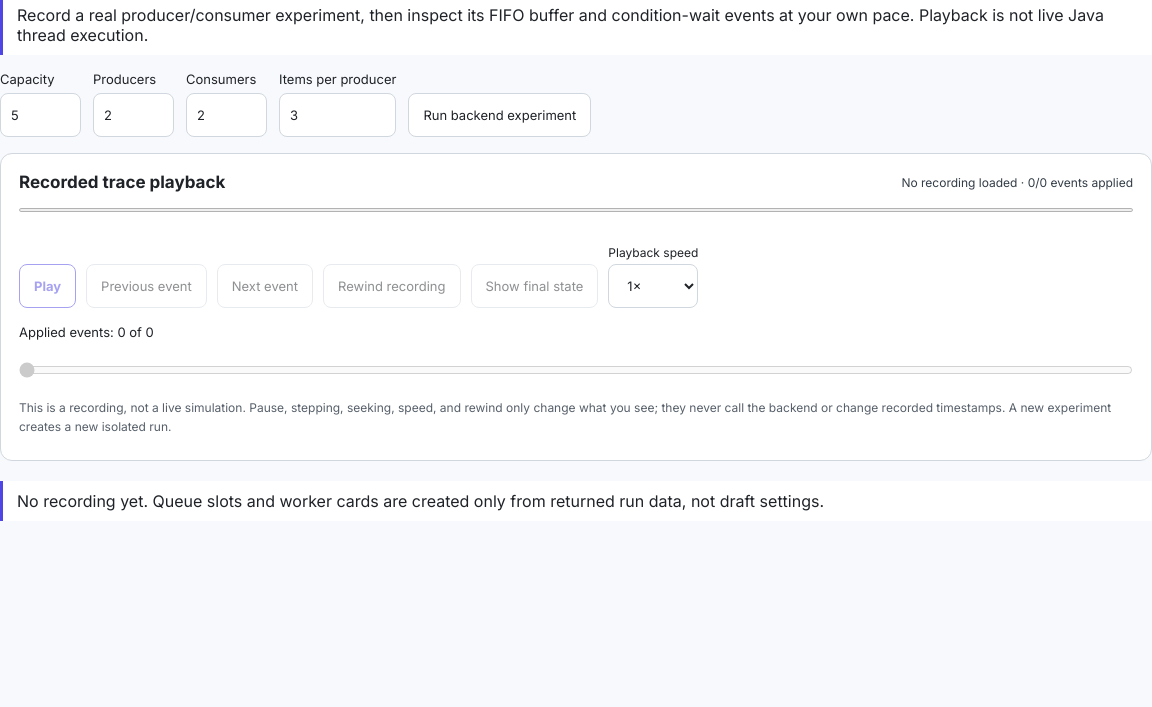
Scenario: Blocking queue recorded views › preserves the previous queue recording after a failed experiment
Submit the form "Run backend experiment", box [0, 71, 591, 137]
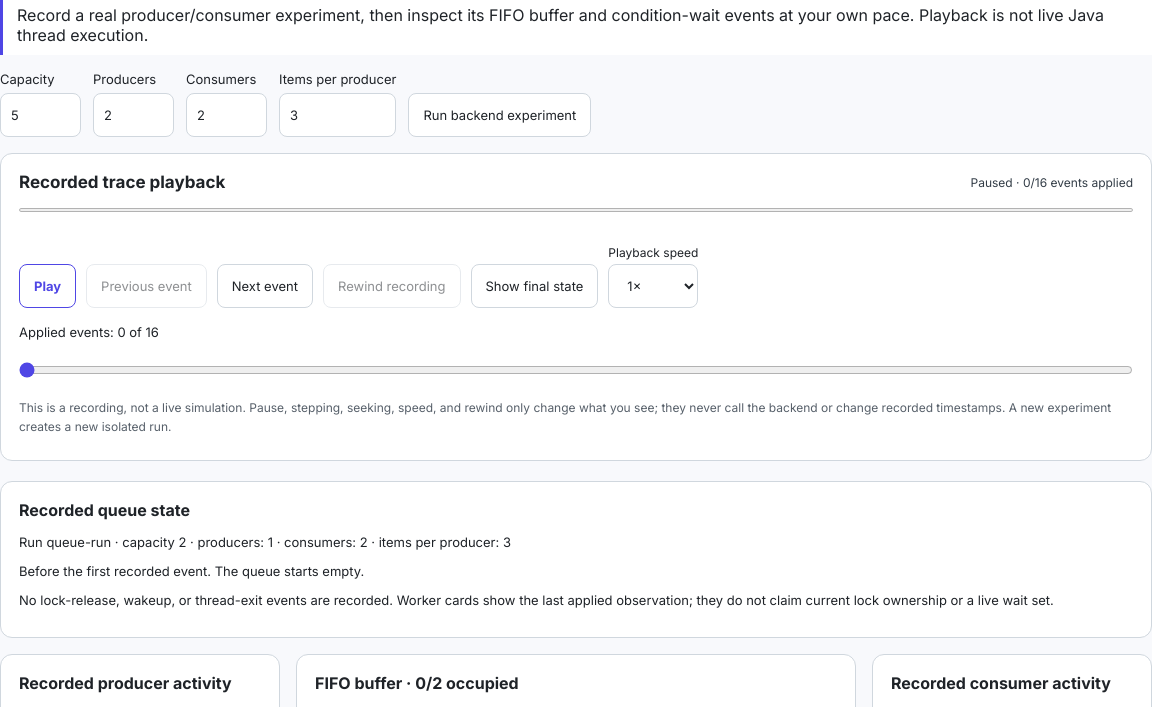
Result: the text "Paused · 0/16 events applied" is shown at [970, 174, 1133, 190]
Set the slider labelled "Applied events: 0 of 16" to "7" at (507, 370), box [19, 348, 1133, 392]
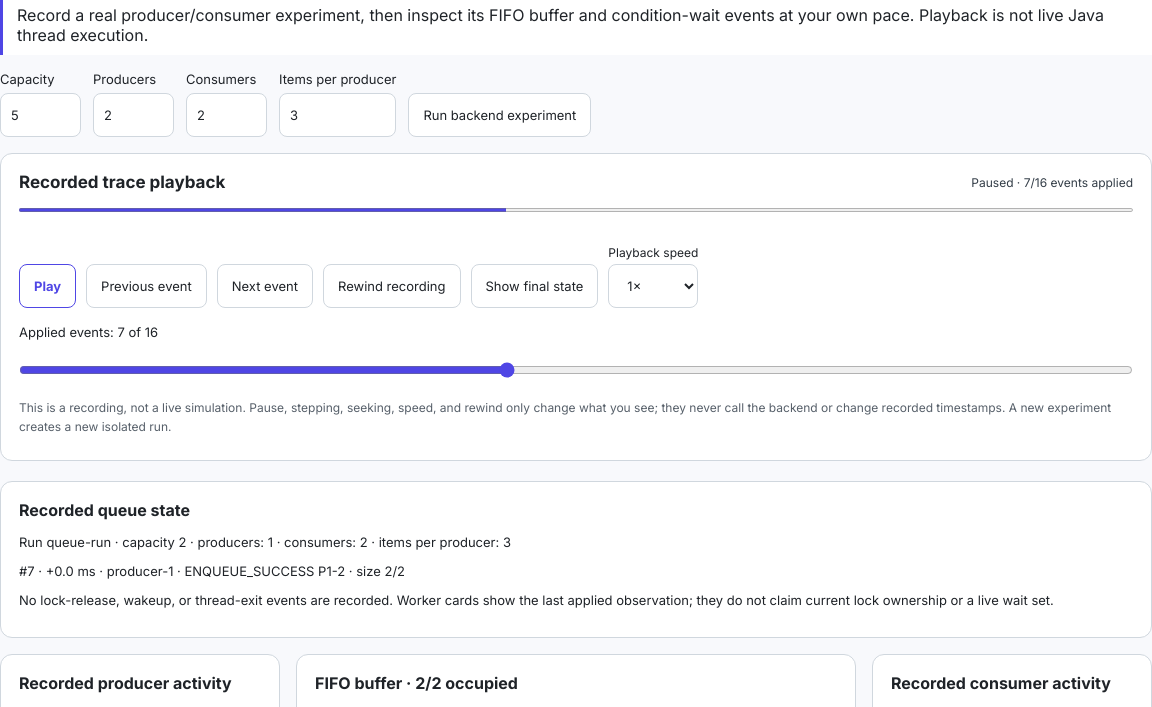
Submit the form "Run backend experiment", box [0, 71, 591, 137]
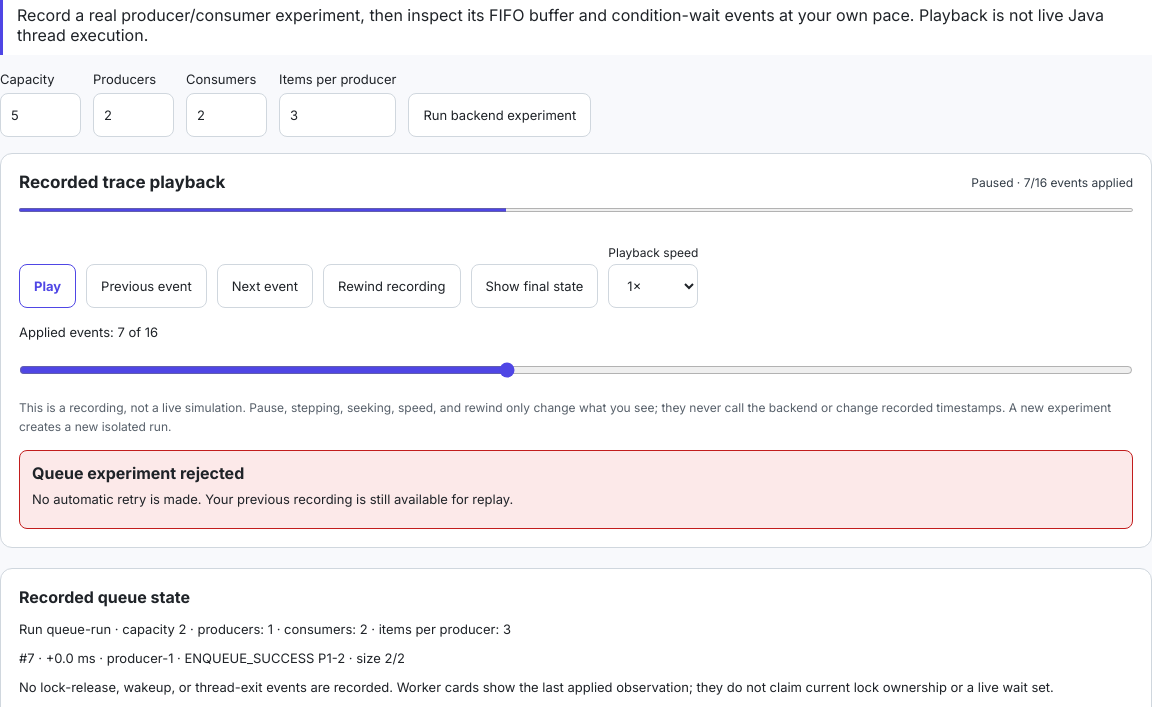
Expected: the progress indicator holds "7", [19, 206, 1133, 214]
Result: the message that starts with "Queue experiment rejected" is shown at [32, 463, 244, 483]
Click the button "Previous event".
click(146, 286)  # box [86, 264, 207, 308]
(page scrolled)
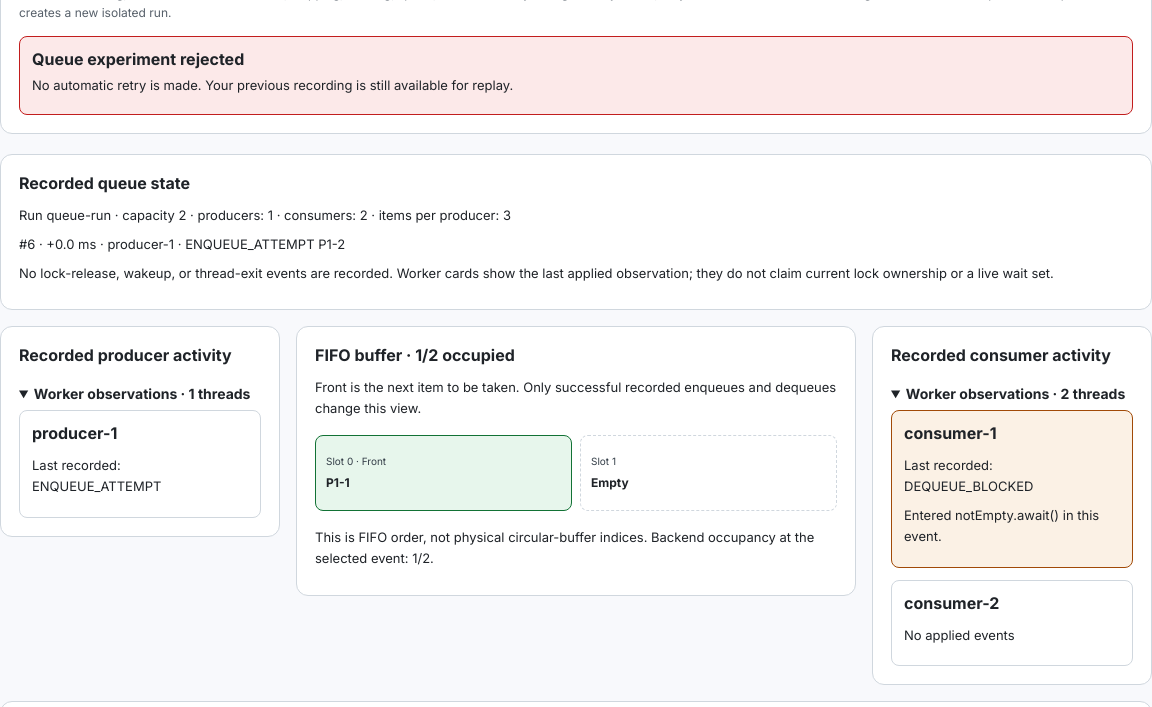
Result: the heading "FIFO buffer · 1/2 occupied" is shown at [315, 345, 515, 365]
